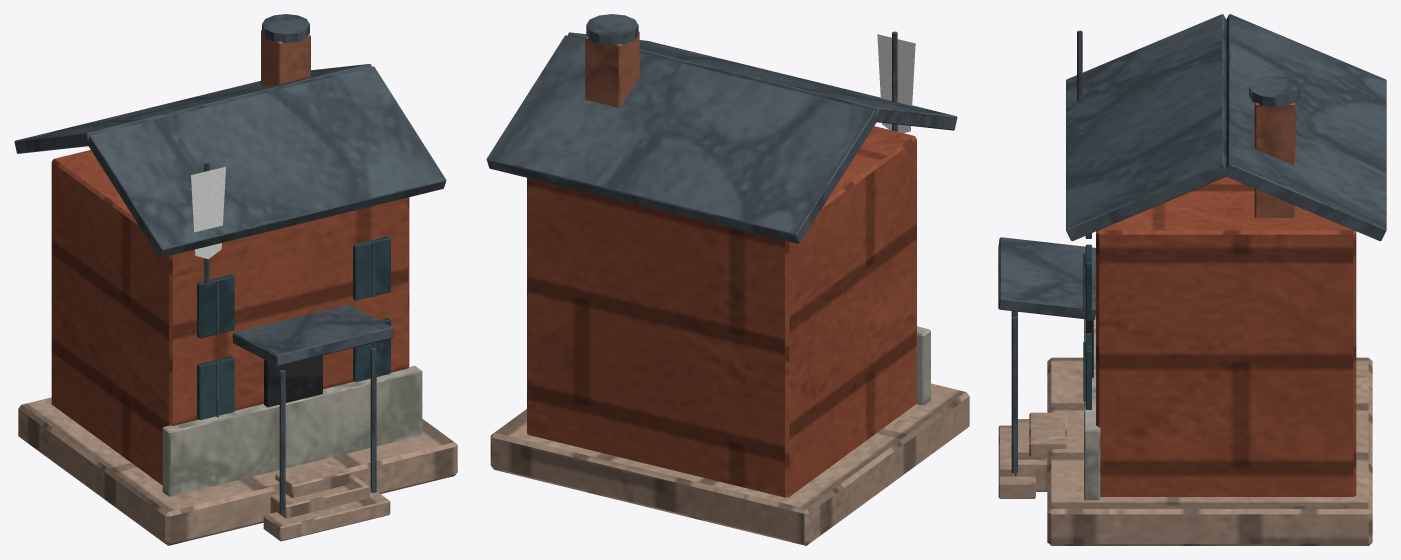
Rendered from edificio-house-e4-B0Zykq3P.glb.
The picture shows the model from 3 angles, left to right: view 1: azimuth 30°, elevation 25°; view 2: azimuth 150°, elevation 25°; view 3: azimuth 270°, elevation 25°; orthographic projection. The views are drawn at different scales.
Visible parts, largest first — view 1: casa_e4_detalles, casa_e4_envolvente, casa_e4_team_color; view 2: casa_e4_envolvente, casa_e4_detalles, casa_e4_team_color; view 3: casa_e4_envolvente, casa_e4_detalles.
Part boxes in pixels (x1,y1,x2,y2): casa_e4_detalles: [14, 14, 446, 515]; casa_e4_envolvente: [18, 150, 457, 545]; casa_e4_team_color: [191, 166, 225, 259]; casa_e4_envolvente: [490, 126, 969, 545]; casa_e4_detalles: [486, 14, 957, 405]; casa_e4_team_color: [877, 34, 915, 133]; casa_e4_envolvente: [998, 176, 1372, 545]; casa_e4_detalles: [998, 14, 1386, 500].
Size of the model in its own units: 45 by 57.65 by 47.76.
3 materials, 3 textured.
